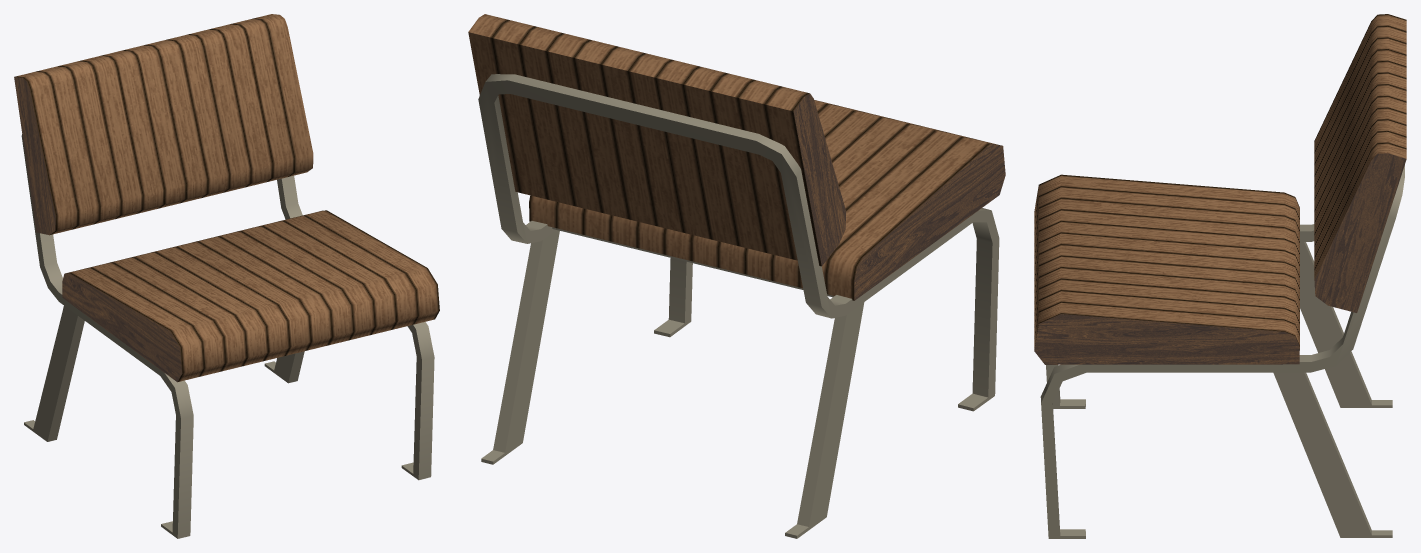
Rendered from CHAIR_compressed.glb.
3 views of the same model, side by side, from view 1: azimuth 30°, elevation 25°; view 2: azimuth 150°, elevation 25°; view 3: azimuth 270°, elevation 25° (orthographic). The views are drawn at different scales.
Parts seen in each view (by area): view 1: СкД_02_LP; view 2: СкД_02_LP; view 3: СкД_02_LP.
Part boxes in pixels (x1=…): СкД_02_LP: x1=14, y1=14, x2=439, y2=538; СкД_02_LP: x1=468, y1=14, x2=1005, y2=538; СкД_02_LP: x1=1034, y1=14, x2=1406, y2=538.
Bounding box in the file's own units: 0.632 × 0.8189 × 0.7141.
3 materials, 2 textured.
